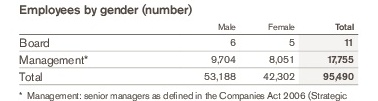table: (0, 0, 378, 101)
